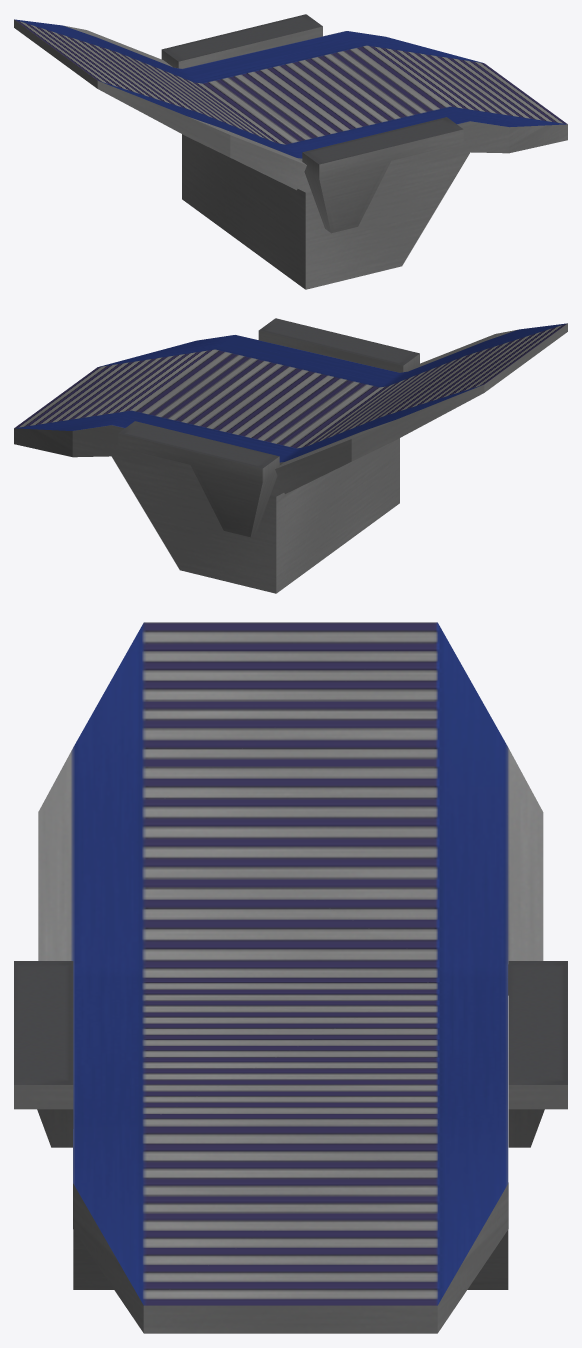
The model's file is Medical_Room_Bed.FBX.
The picture shows the model from 3 angles, top to bottom: view 1: azimuth 30°, elevation 25°; view 2: azimuth 150°, elevation 25°; view 3: azimuth 270°, elevation 25°; orthographic projection. The views are drawn at different scales.
Parts seen in each view (by area): view 1: Box001; view 2: Box001; view 3: Box001.
Boxes of the visible parts, left/top/right/bottom form: Box001: left=14, top=14, right=567, bottom=289; Box001: left=14, top=318, right=567, bottom=593; Box001: left=14, top=622, right=567, bottom=1333.
Size of the model in its own units: 204 by 99.45 by 118.
